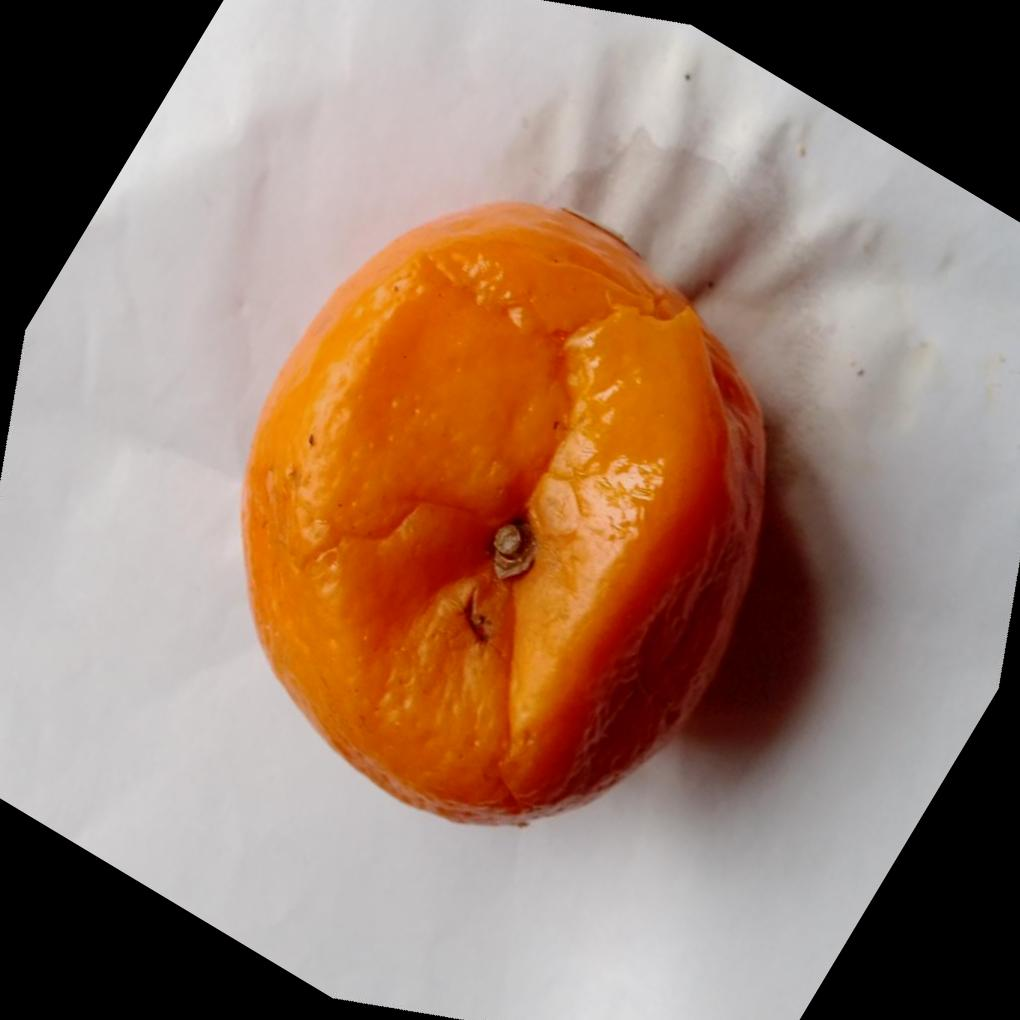FreshOrange: (239, 196, 771, 826)
